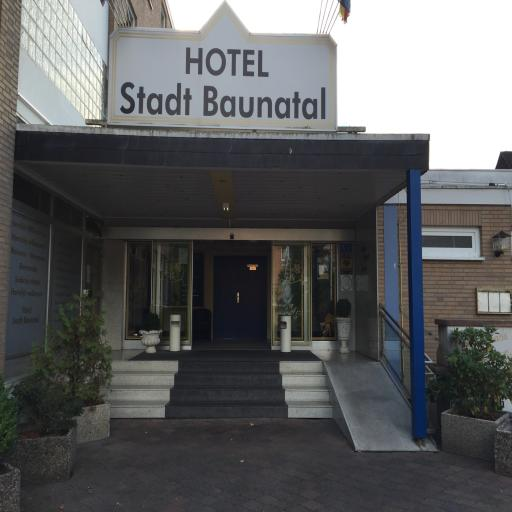ramp: (324, 363, 438, 453)
stairs: (112, 361, 332, 419)
